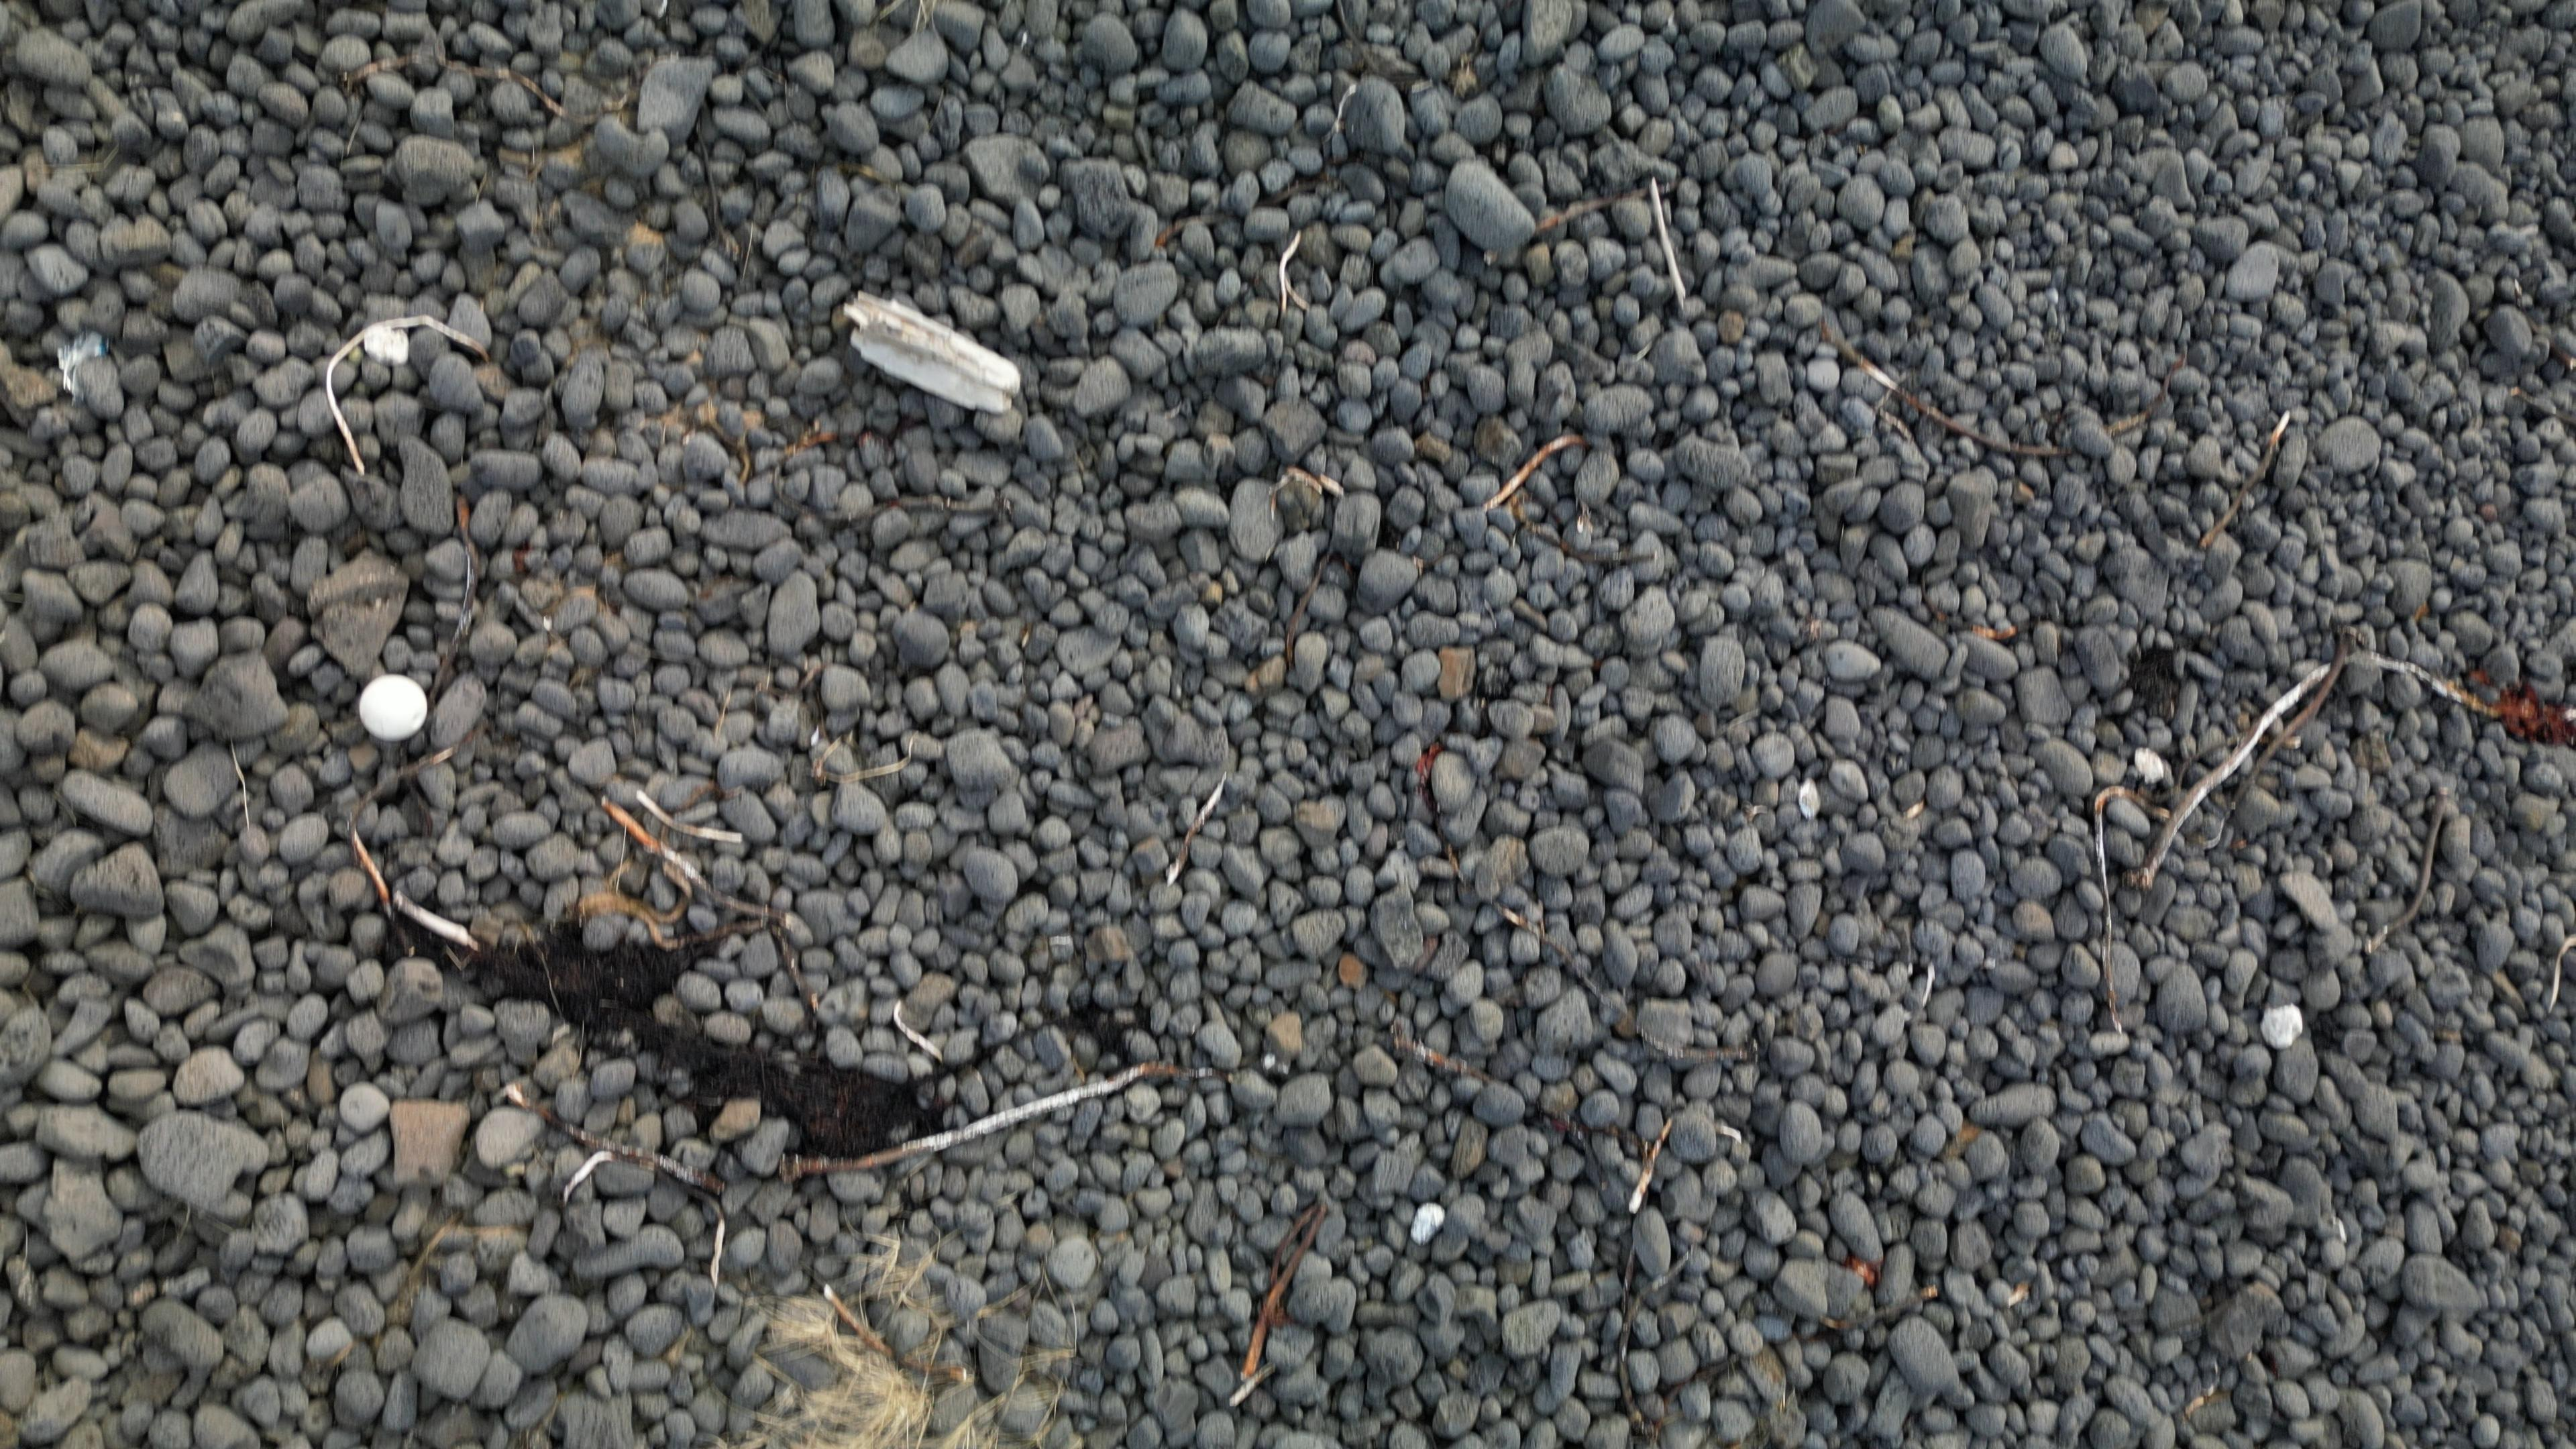trash: (840, 292, 1021, 413), (357, 674, 428, 739)
